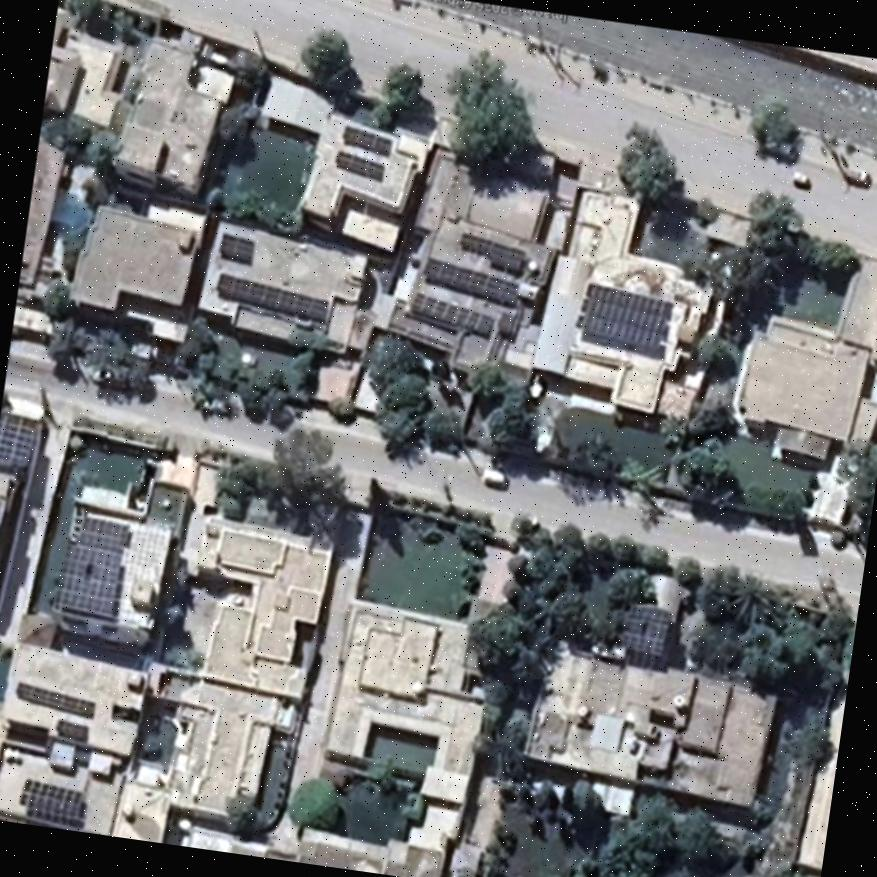Solarpanel: (49, 510, 128, 616), (577, 282, 668, 350), (212, 271, 330, 323), (417, 258, 516, 304), (406, 289, 491, 335), (618, 596, 672, 652), (17, 682, 96, 718), (20, 775, 81, 818), (0, 410, 40, 468), (458, 234, 522, 270), (335, 149, 385, 180), (343, 125, 392, 155), (219, 232, 252, 259), (56, 719, 88, 738)
